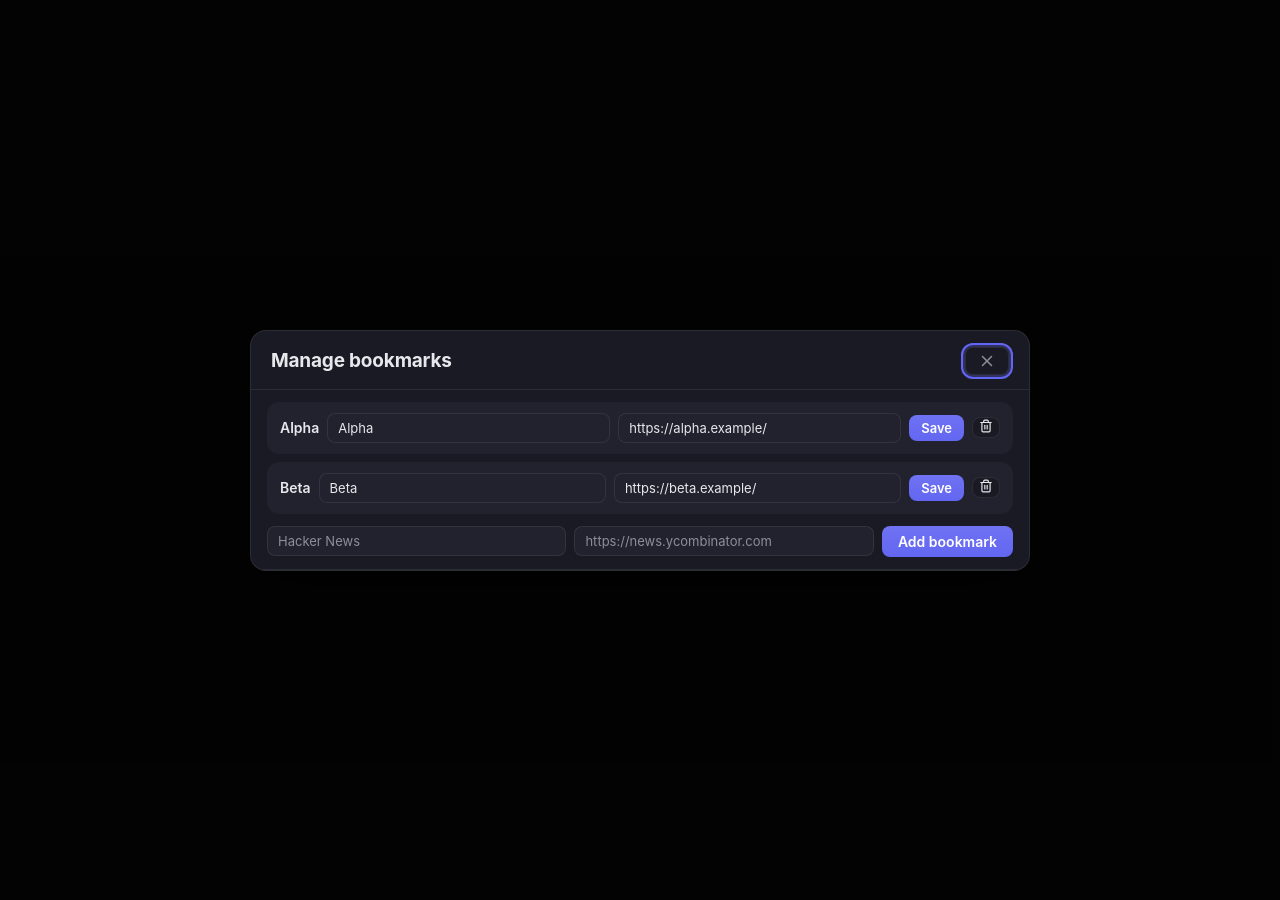
Test: FavoritesManager › shows an inline error and does not add when the URL is invalid
In the field named "new bookmark name": coordinates (417, 541) [267, 526, 566, 556], type "Gamma"
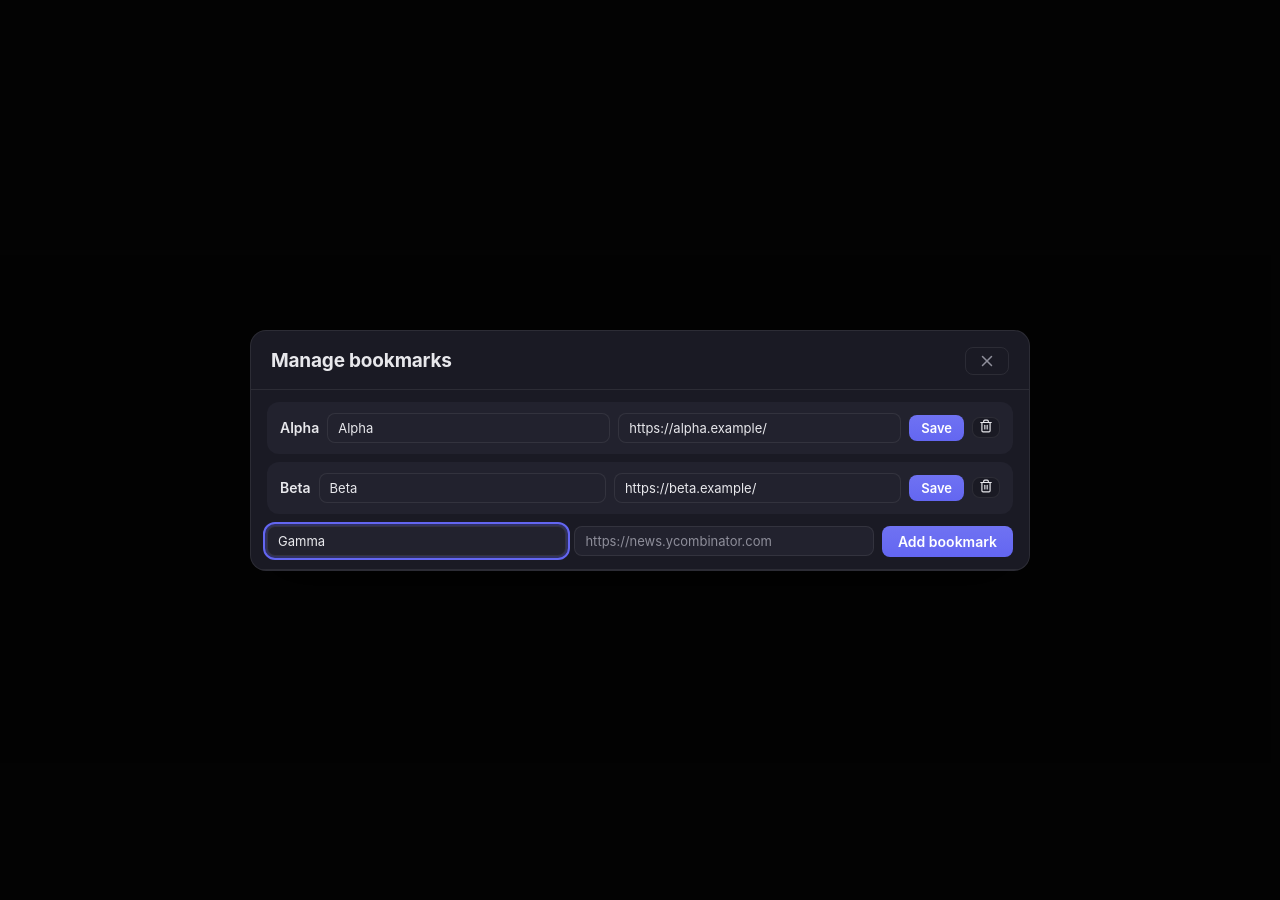
In the field named "new bookmark url": coordinates (724, 541) [574, 526, 874, 556], type "not a url"
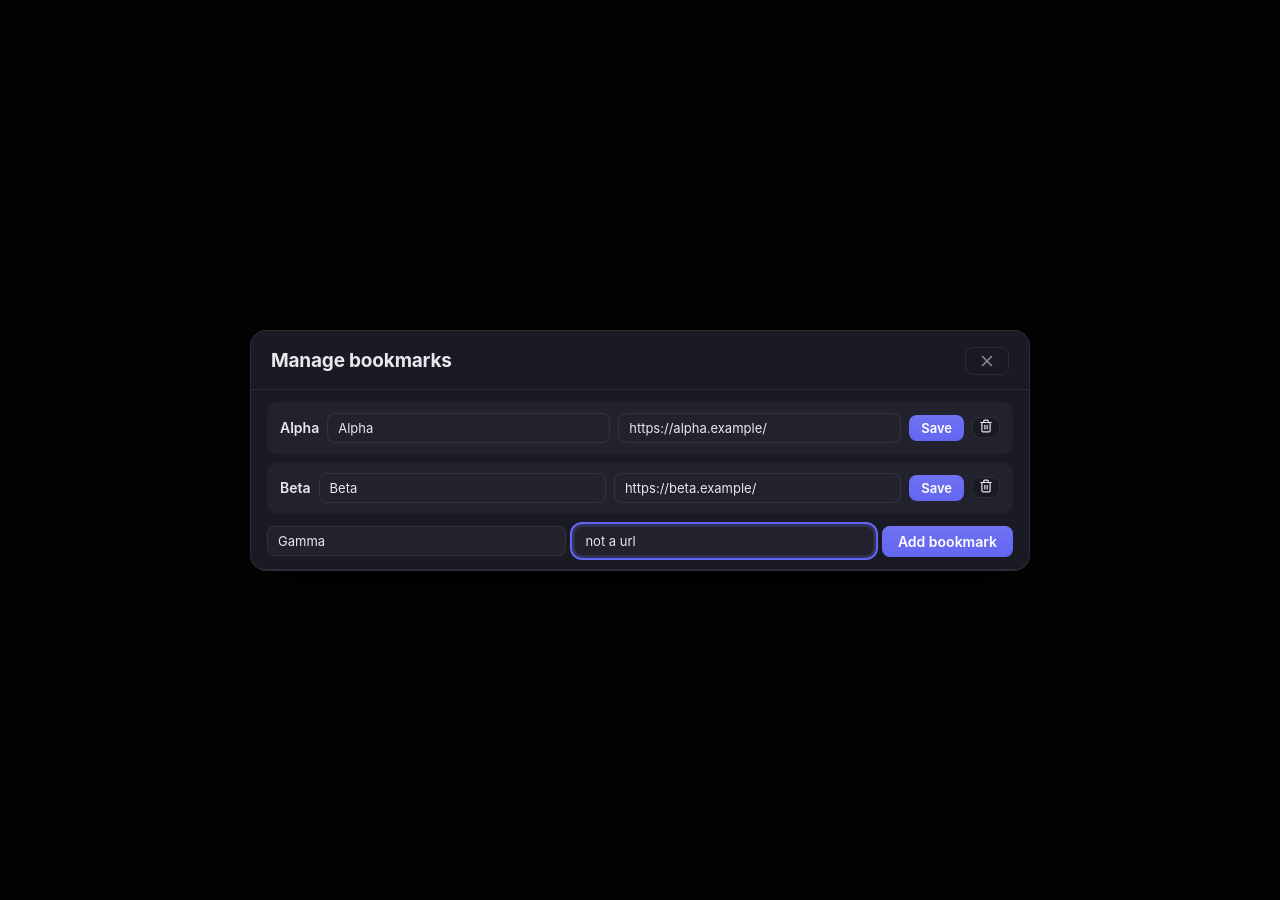
Click the button "Add bookmark": coordinates (947, 541) [882, 526, 1013, 556]
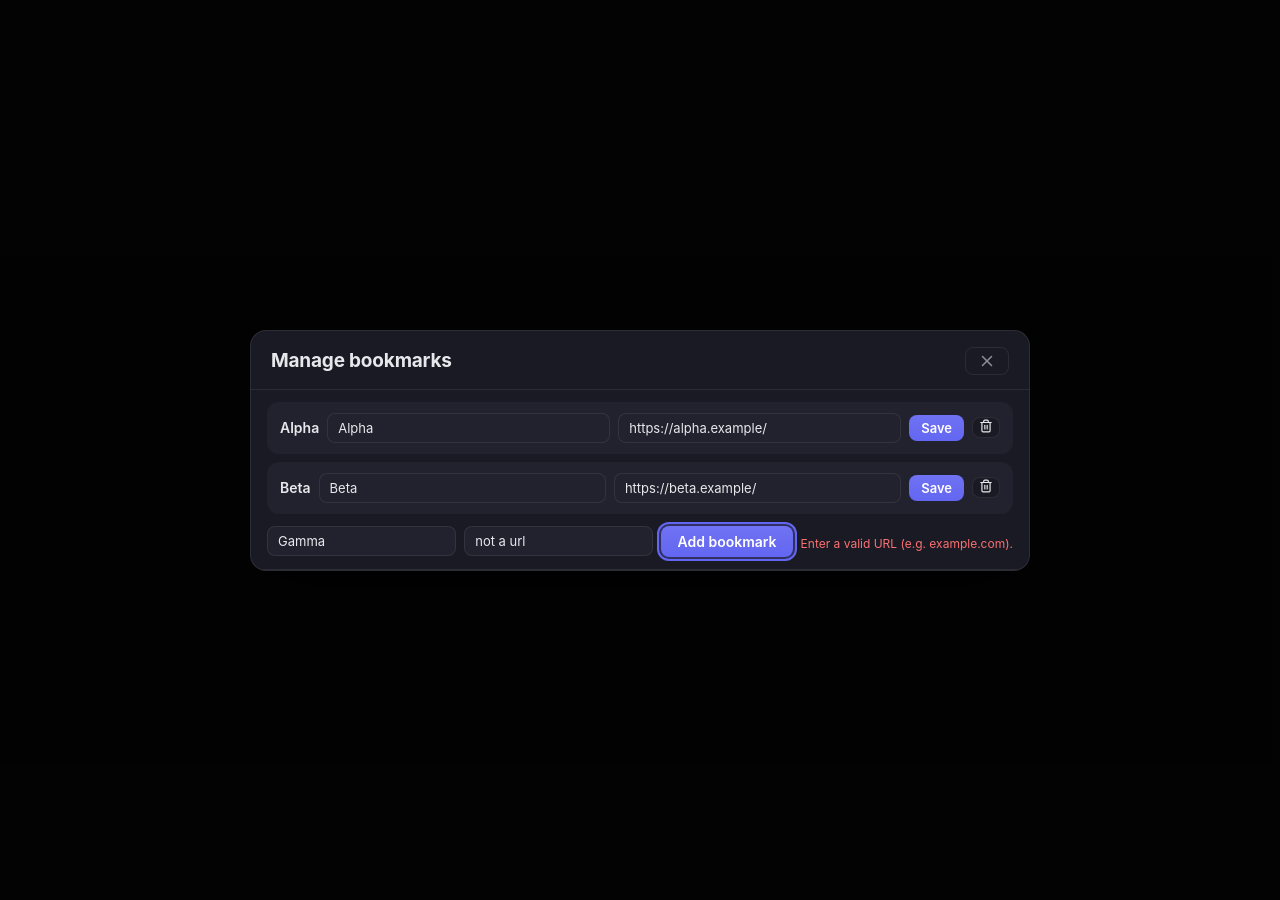
Expected: the message "Enter a valid URL (e.g. example.com)." is shown, [801, 536, 1013, 550]
